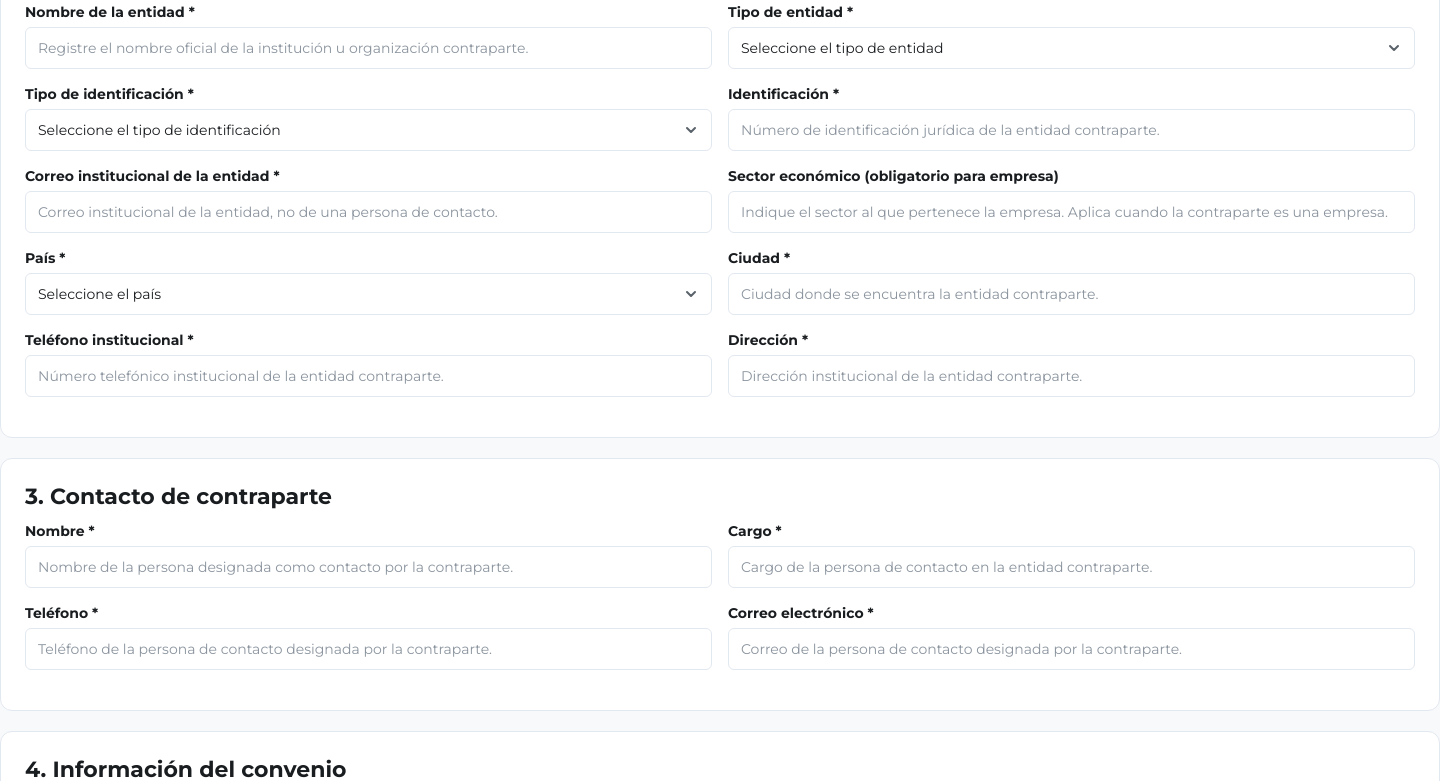
Scenario: validación de formato en el formulario de solicitud (HT14-FE02) › muestra el mensaje del backend en su campo, conserva lo escrito y permite reenviar (CA-06, CA-07)
The image size is (1440, 781).
(page scrolled)
In the field labelled "Teléfono institucional *": (368, 376) [25,355,712,397], type "300 000"
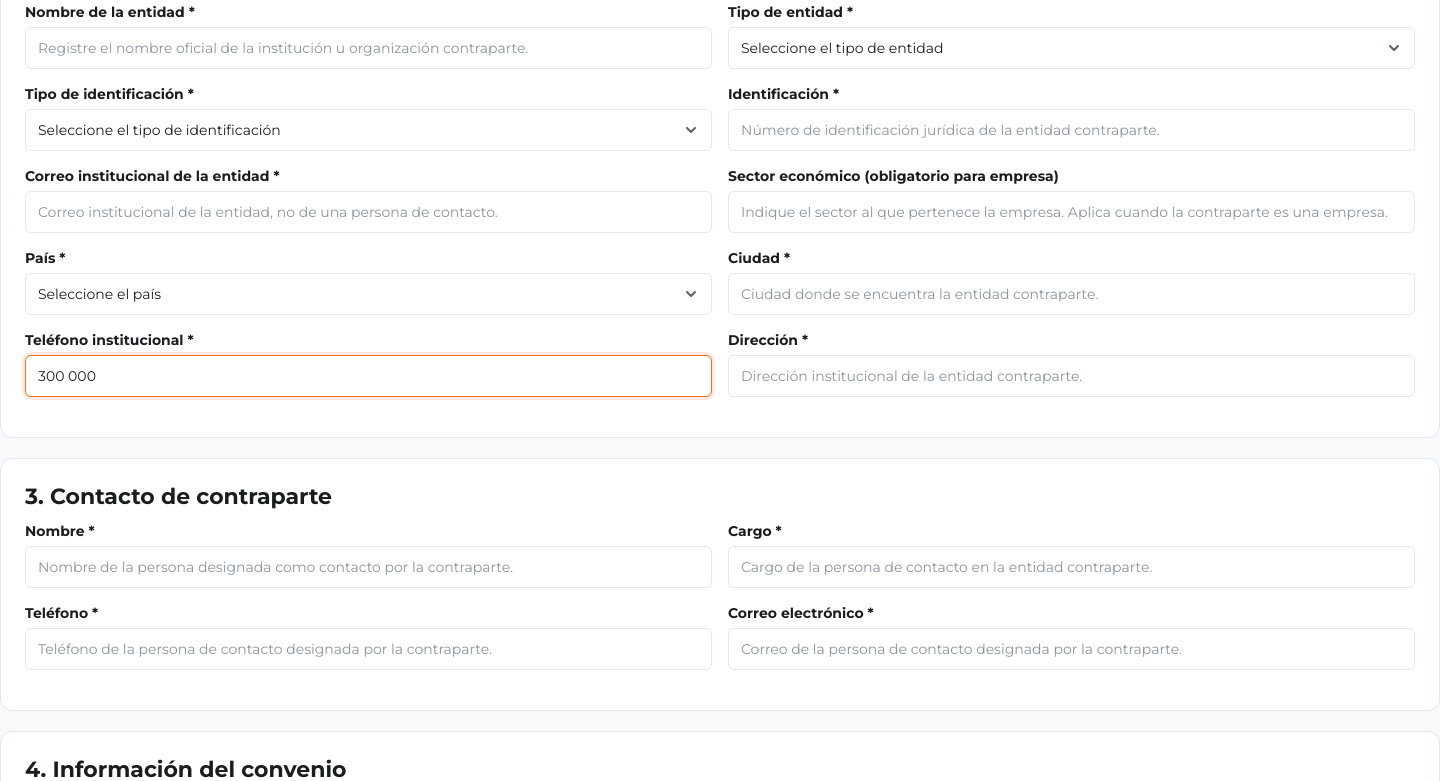
In the field labelled "Ciudad *": (1072, 294) [728,273,1415,315], type "Cali"
(page scrolled)
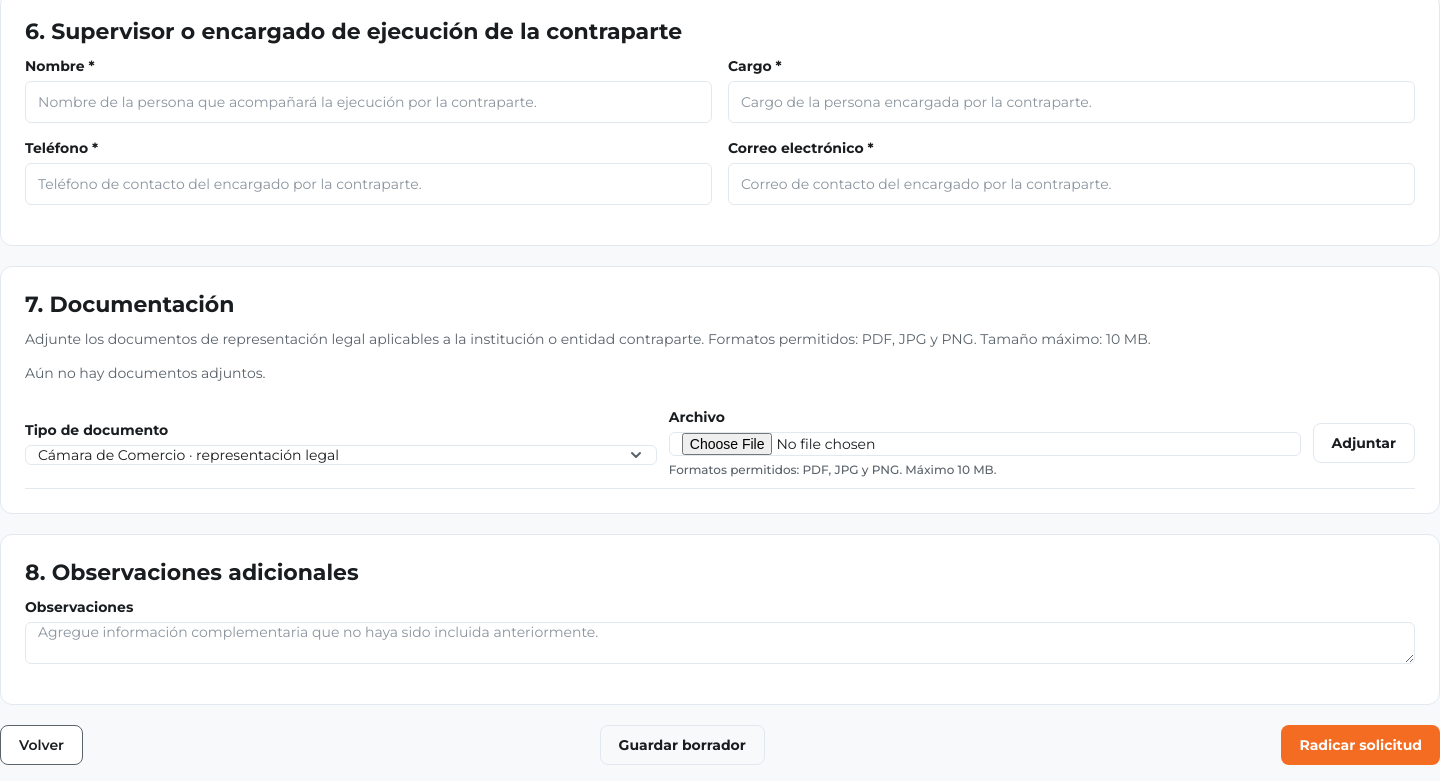
Click the button "Guardar borrador": click(682, 745) [600,725,765,765]
(page scrolled)
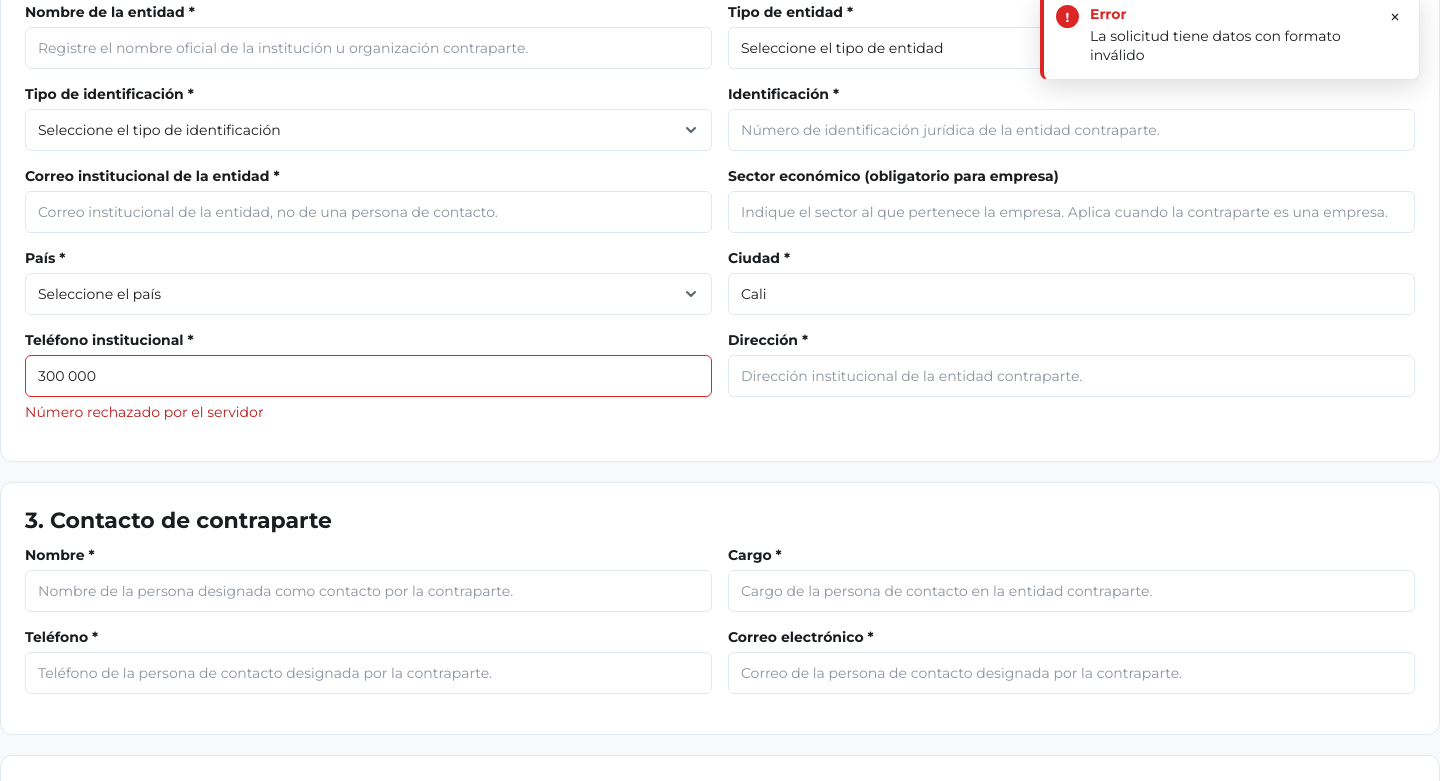
Check: the text "Número rechazado por el servidor" is shown, box [25,403,264,421]
Replace the text in the field labelled "Teléfono institucional *" with "3001234567": (368, 376) [25,355,712,397]
(page scrolled)
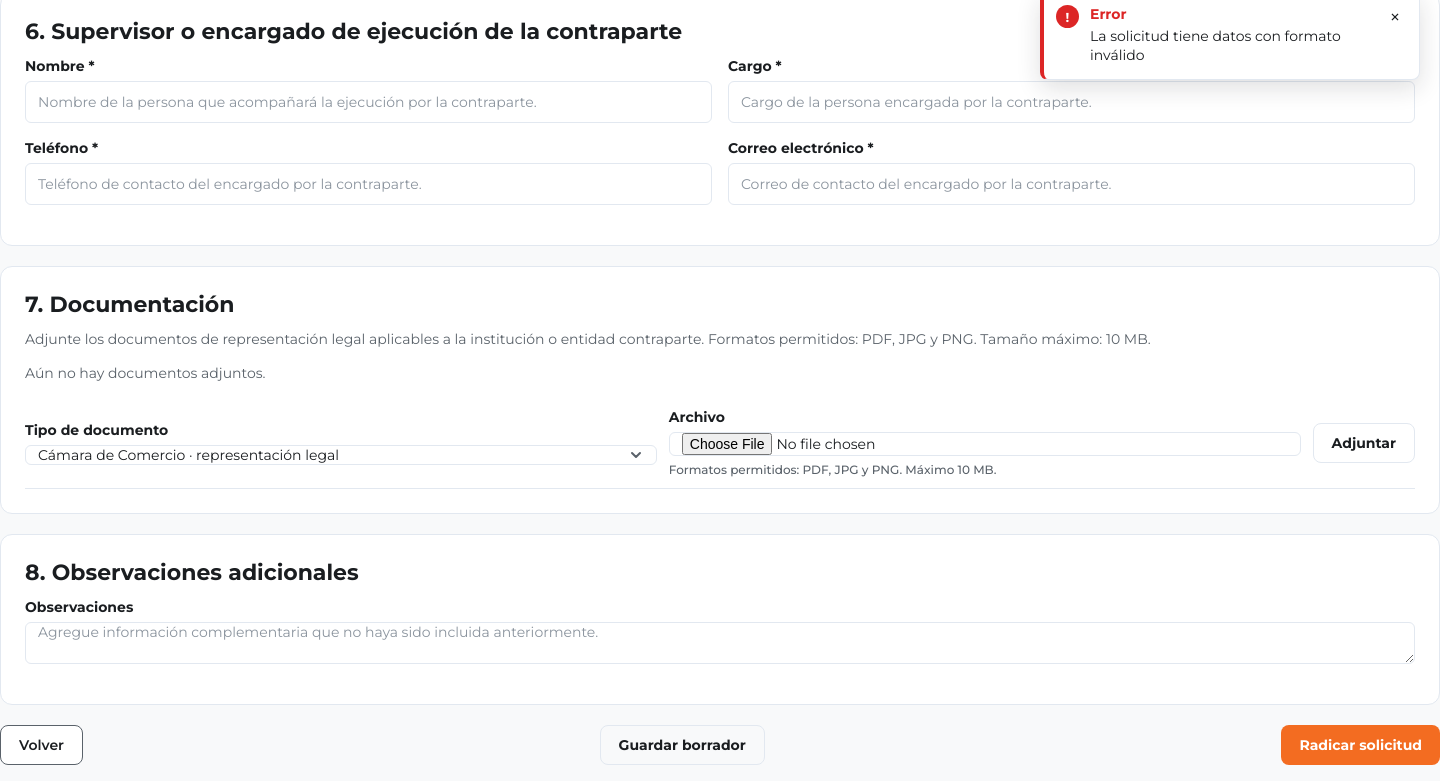
Click the button "Guardar borrador": click(682, 745) [600,725,765,765]
(page scrolled)
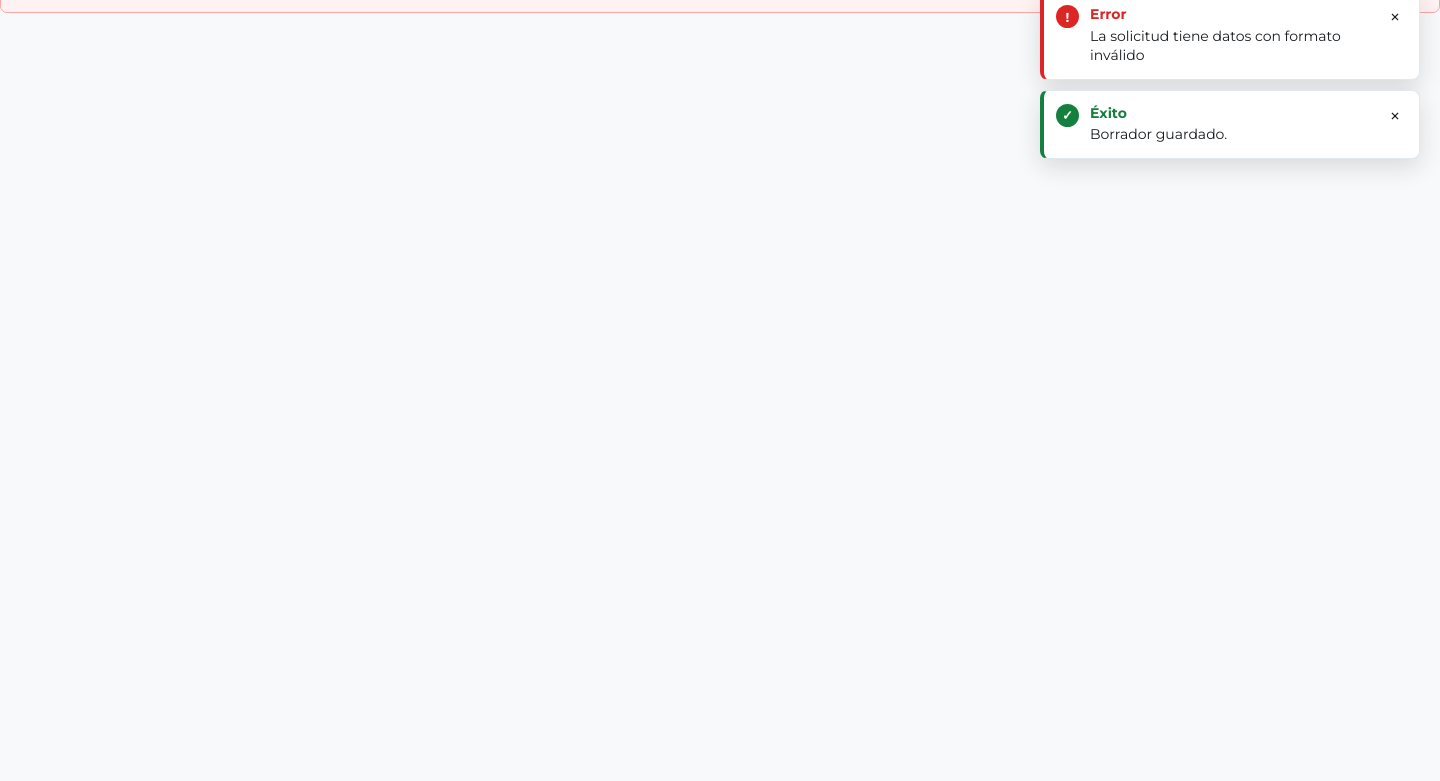
Check: the text "Borrador guardado." is shown, box [1090,125,1227,143]
